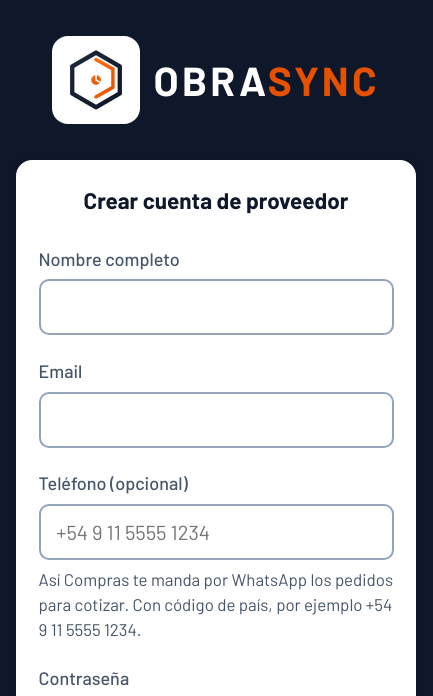
Scenario: RegistroProveedorPage › muestra el detalle del 400
This screenshot has width=433, height=696.
Type "Ana" into the field labelled "Nombre completo".
click(216, 307); type("Ana")  # box [38,279,394,335]
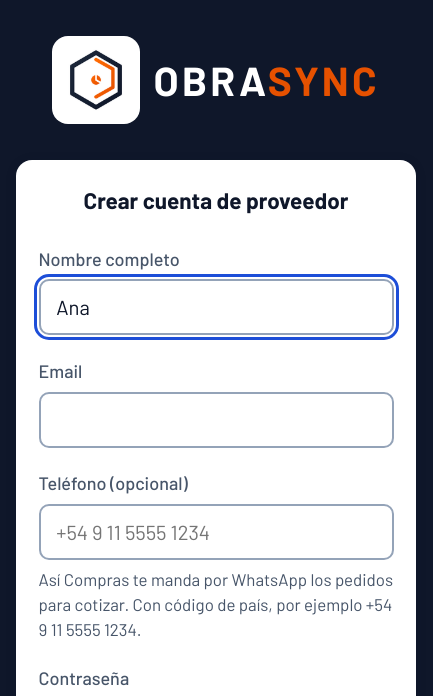
Type "ana@empresa.com" into the field labelled "Email".
click(216, 420); type("ana@empresa.com")  # box [38,392,394,448]
(page scrolled)
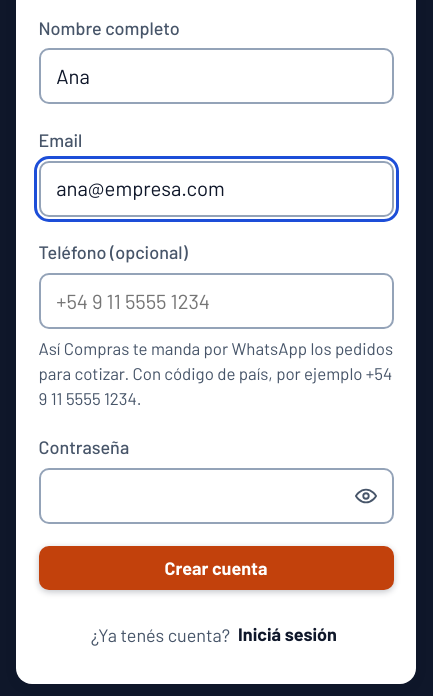
Type "clave1234" into the password field labelled "Contraseña".
click(216, 496); type("clave1234")  # box [38,468,394,524]
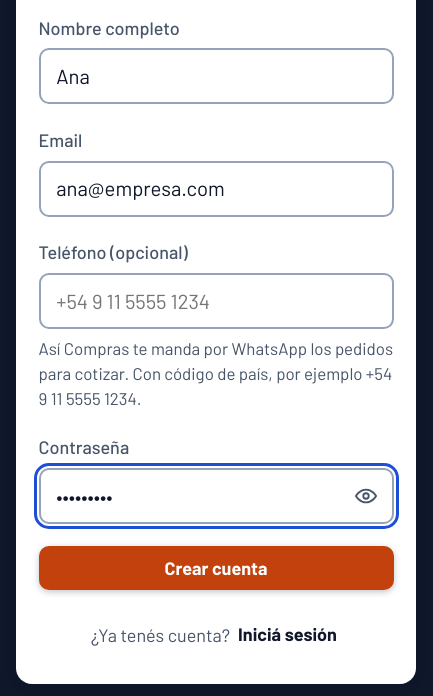
Click the button "Crear cuenta".
click(216, 568)  # box [38,546,394,590]
(page scrolled)
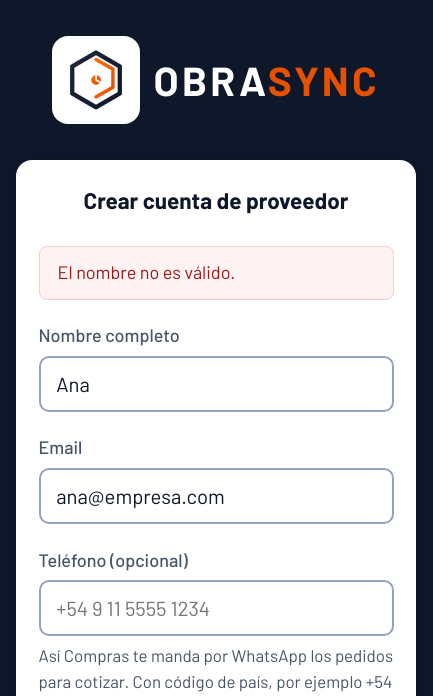
Expected: the message reads "El nombre no es válido.", [58,261,235,283]
